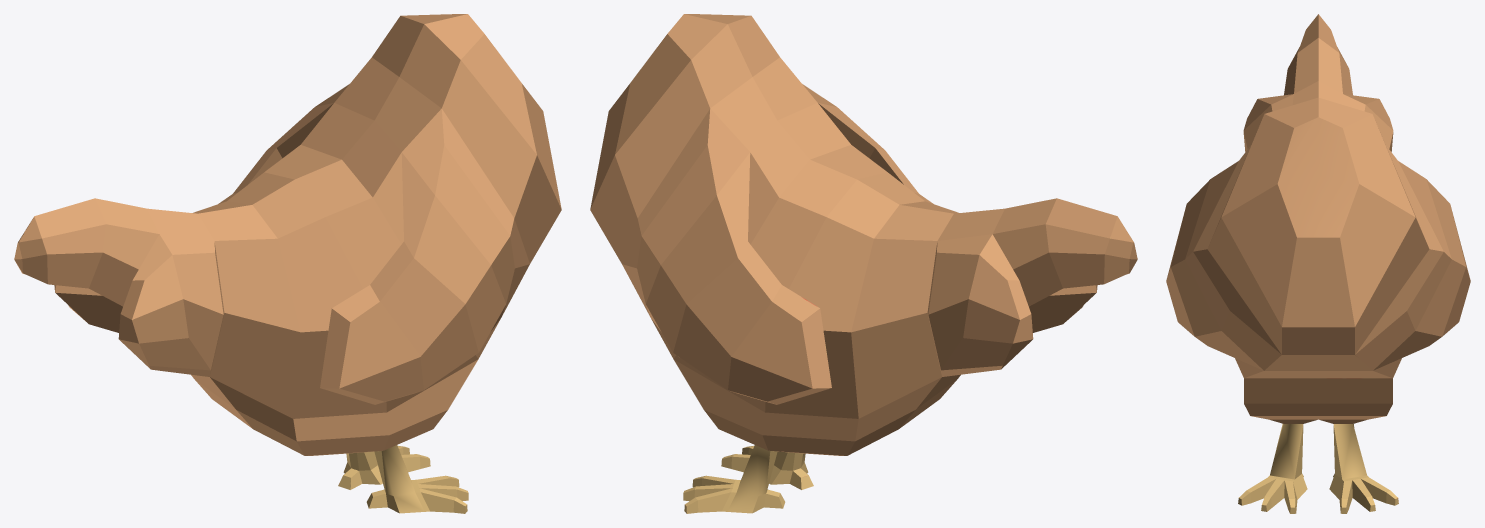
The model's file is Player_Chicken.fbx.
3 renders of one model, left to right at view 1: azimuth 30°, elevation 25°; view 2: azimuth 150°, elevation 25°; view 3: azimuth 270°, elevation 25°, orthographic. The views are drawn at different scales.
Visible parts, largest first — view 1: Chicken.001; view 2: Chicken.001; view 3: Chicken.001.
Boxes of the visible parts, left/top/right/bottom form: Chicken.001: left=14, top=14, right=561, bottom=513; Chicken.001: left=590, top=14, right=1137, bottom=513; Chicken.001: left=1166, top=14, right=1470, bottom=513.
Bounding box in the file's own units: 37.93 × 31.35 × 21.22.
